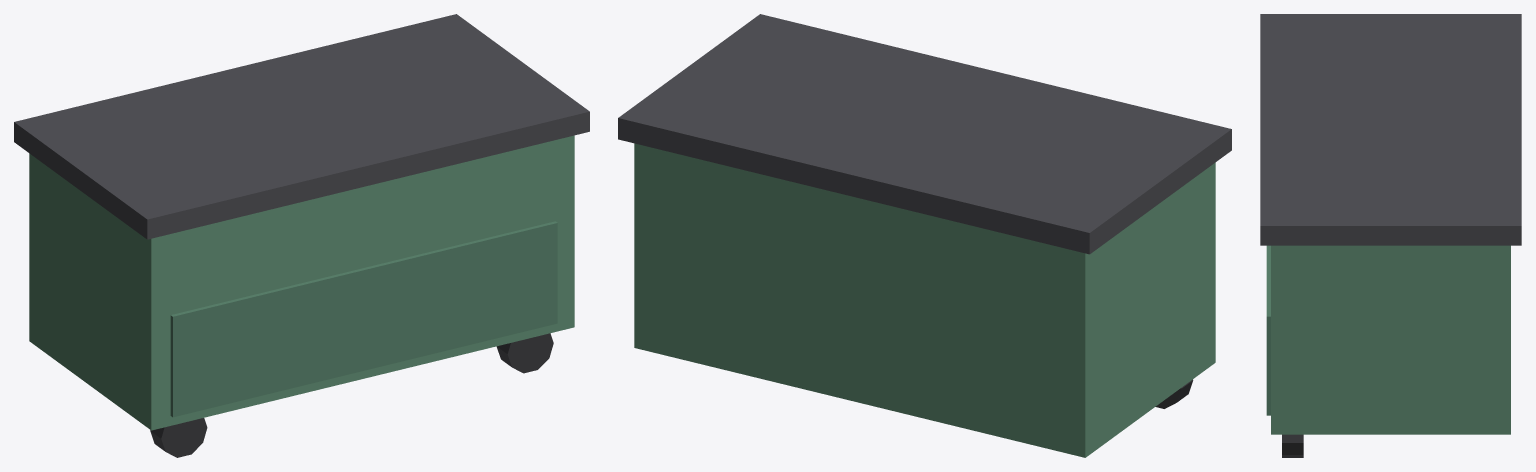
Rendered from cacamba.glb.
3 renders of one model, left to right at view 1: azimuth 30°, elevation 25°; view 2: azimuth 150°, elevation 25°; view 3: azimuth 270°, elevation 25°, orthographic. The views are drawn at different scales.
Parts seen in each view (by area): view 1: cacamba; view 2: cacamba; view 3: cacamba.
Boxes of the visible parts, box(x1,y1,x2,y2) form: cacamba: box(14, 14, 589, 457); cacamba: box(618, 14, 1231, 457); cacamba: box(1260, 14, 1521, 457).
Size of the model in its own units: 2.3 by 1.27 by 1.2.
